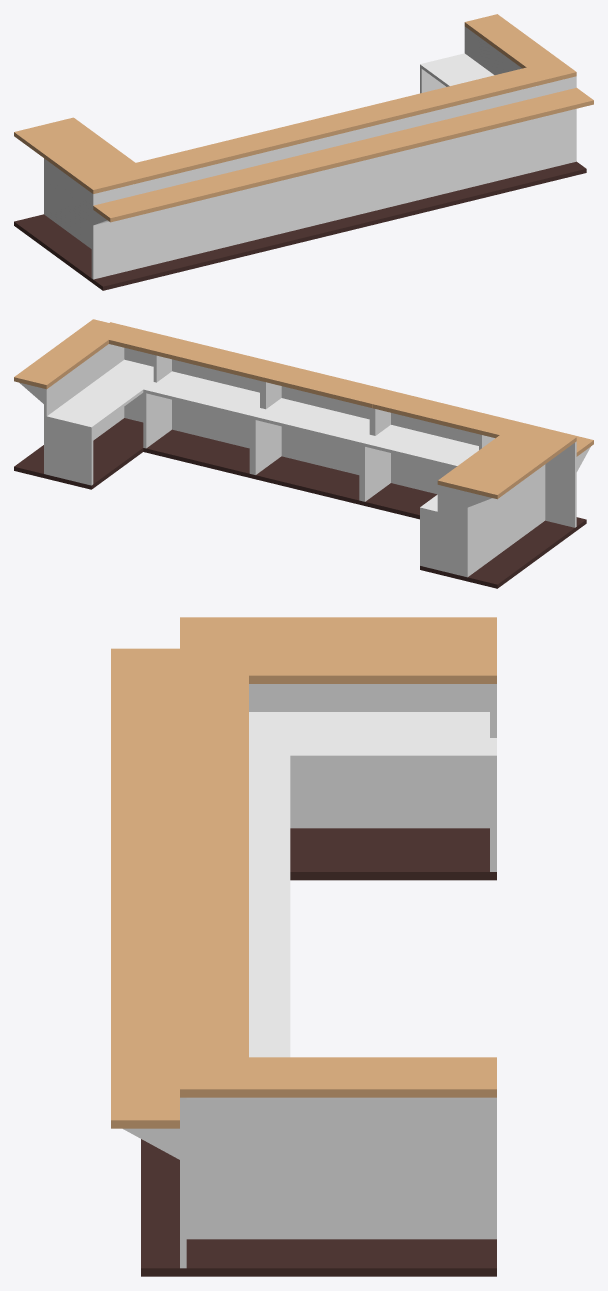
Rendered from bar_counter.glb.
The picture shows the model from 3 angles, top to bottom: view 1: azimuth 30°, elevation 25°; view 2: azimuth 150°, elevation 25°; view 3: azimuth 270°, elevation 25°; orthographic projection. The views are drawn at different scales.
Visible parts, largest first — view 1: instance17 (×3), instance11 (×3), instance41 (×3), instance77, instance61, instance139, instance14 (×3), instance123, instance67, instance64, instance95, instance157 (+7 smaller); view 2: instance17 (×3), instance20 (×3), instance23 (×3), instance11 (×3), instance61, instance67, instance132, instance29 (×3), instance123, instance64, instance135, instance129 (+10 smaller); view 3: instance129, instance11 (×3), instance41 (×3), instance61, instance67, instance123, instance20 (×3), instance126, instance70, instance73, instance157, instance95 (+8 smaller).
Boxes of the visible parts, left/top/right/bottom form: instance17 (×3): left=171, top=95, right=499, bottom=260; instance11 (×3): left=154, top=78, right=498, bottom=174; instance41 (×3): left=171, top=106, right=516, bottom=203; instance77: left=91, top=175, right=170, bottom=279; instance61: left=14, top=117, right=152, bottom=193; instance139: left=499, top=76, right=576, bottom=180; instance14 (×3): left=171, top=180, right=508, bottom=271; instance123: left=464, top=14, right=576, bottom=83; instance67: left=44, top=158, right=91, bottom=248; instance64: left=14, top=214, right=93, bottom=283; instance95: left=93, top=187, right=187, bottom=222; instance157: left=499, top=87, right=593, bottom=123; instance17 (×3): left=172, top=359, right=478, bottom=494; instance20 (×3): left=146, top=371, right=478, bottom=468; instance23 (×3): left=143, top=429, right=437, bottom=519; instance11 (×3): left=153, top=338, right=498, bottom=434; instance61: left=437, top=422, right=576, bottom=499; instance67: left=464, top=464, right=545, bottom=577; instance132: left=49, top=359, right=153, bottom=428; instance29 (×3): left=153, top=355, right=390, bottom=493; instance123: left=14, top=319, right=125, bottom=389; instance64: left=467, top=520, right=576, bottom=588; instance135: left=44, top=418, right=143, bottom=489; instance129: left=44, top=344, right=124, bottom=440; instance129: left=186, top=1099, right=496, bottom=1239; instance11 (×3): left=180, top=693, right=248, bottom=1013; instance41 (×3): left=111, top=724, right=179, bottom=1044; instance61: left=180, top=617, right=496, bottom=683; instance67: left=249, top=684, right=489, bottom=828; instance123: left=180, top=1057, right=496, bottom=1097; instance20 (×3): left=249, top=758, right=290, bottom=1057; instance126: left=180, top=1239, right=496, bottom=1276; instance70: left=249, top=712, right=489, bottom=761; instance73: left=290, top=828, right=496, bottom=880; instance157: left=111, top=1044, right=179, bottom=1128; instance95: left=111, top=648, right=179, bottom=724.
Size of the model in its own units: 13776 by 2551 by 4762.
